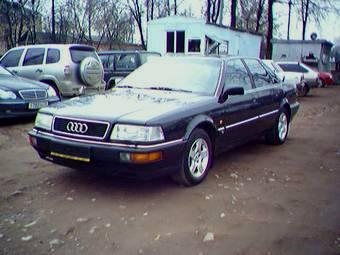Audi: (63, 118, 92, 136)
